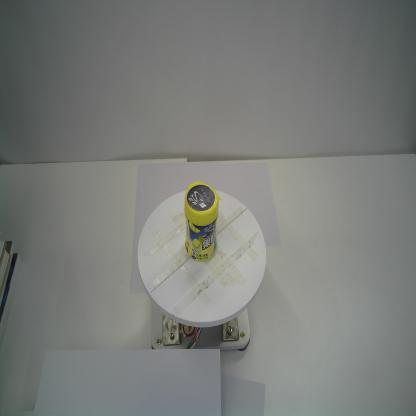Gum: (184, 181, 222, 261)
